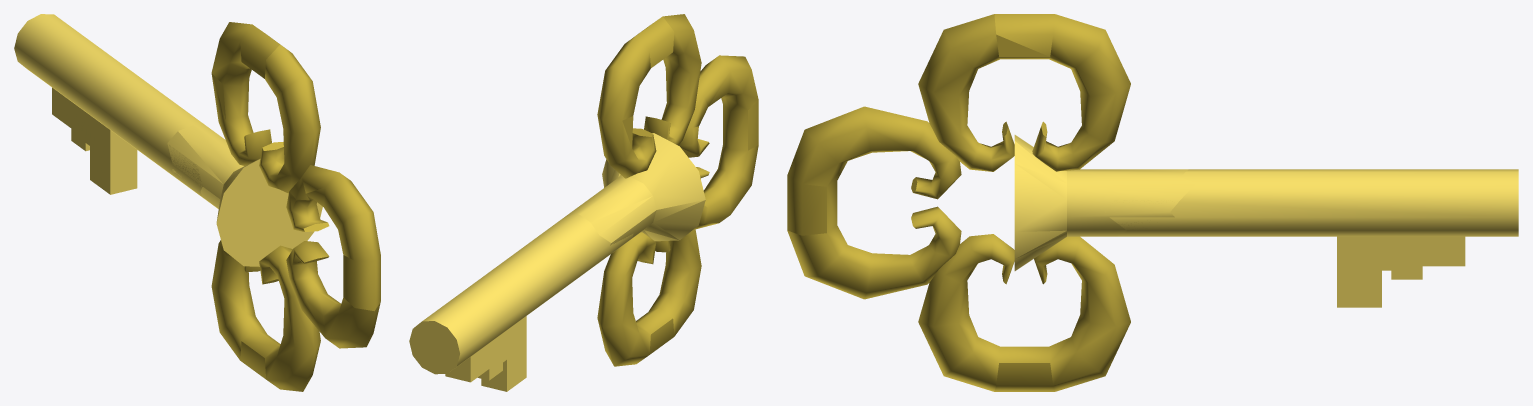
The model's file is Key.FBX.
3 renders of one model, left to right at view 1: azimuth 30°, elevation 25°; view 2: azimuth 150°, elevation 25°; view 3: azimuth 270°, elevation 25°, orthographic. The views are drawn at different scales.
Visible parts, largest first — view 1: KeyDebrisB; view 2: KeyDebrisB; view 3: KeyDebrisB.
Part boxes in pixels (box(x1,y1,x2,y2)): KeyDebrisB: box(14, 14, 380, 391); KeyDebrisB: box(409, 14, 758, 391); KeyDebrisB: box(787, 14, 1518, 391).
Size of the model in its own units: 6.89 by 20.88 by 36.62.
